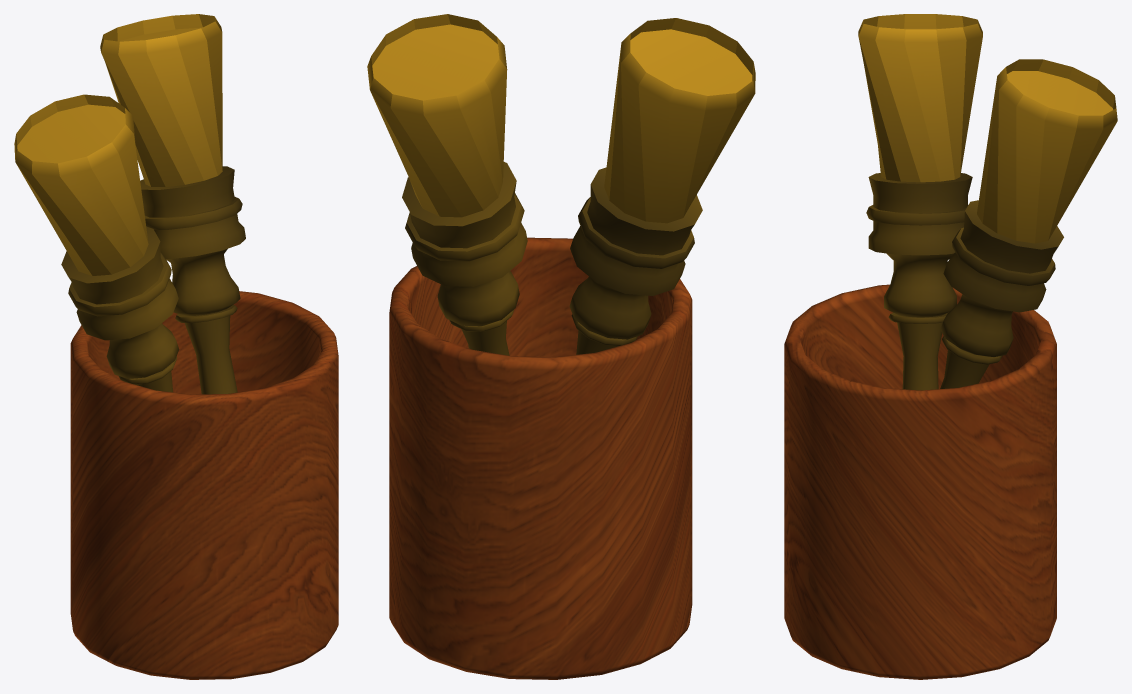
Rendered from Renai_BrushHolder.fbx.
3 renders of one model, left to right at view 1: azimuth 30°, elevation 25°; view 2: azimuth 150°, elevation 25°; view 3: azimuth 270°, elevation 25°, orthographic. The views are drawn at different scales.
Parts seen in each view (by area): view 1: BrushHolder, Brush2, Brush1; view 2: BrushHolder, Brush1, Brush2; view 3: BrushHolder, Brush1, Brush2.
Boxes of the visible parts, bbox=[...] form: BrushHolder: bbox=[70, 291, 338, 679]; Brush2: bbox=[100, 14, 245, 394]; Brush1: bbox=[14, 94, 179, 392]; BrushHolder: bbox=[389, 237, 692, 679]; Brush1: bbox=[569, 18, 755, 354]; Brush2: bbox=[367, 14, 527, 355]; BrushHolder: bbox=[784, 284, 1056, 679]; Brush1: bbox=[858, 14, 982, 390]; Brush2: bbox=[940, 59, 1117, 388].
Size of the model in its own units: 1.09 by 1.94 by 1.04.
2 materials, 2 textured.
